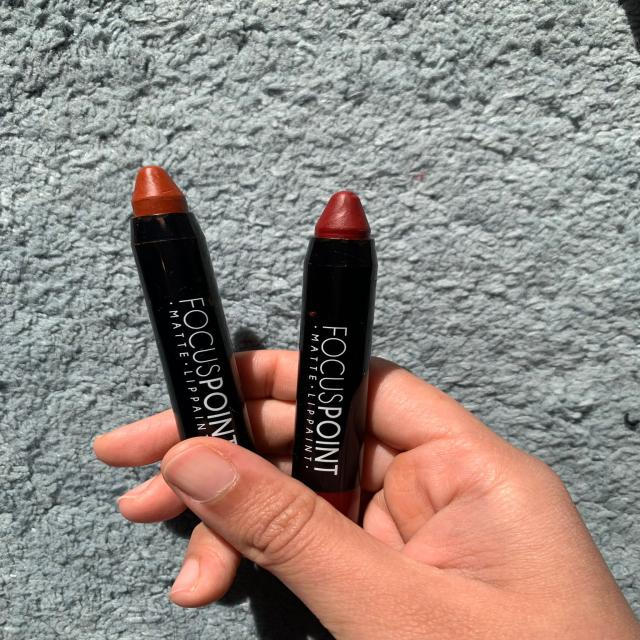lip liner: (114, 147, 250, 447), (278, 166, 393, 483)
